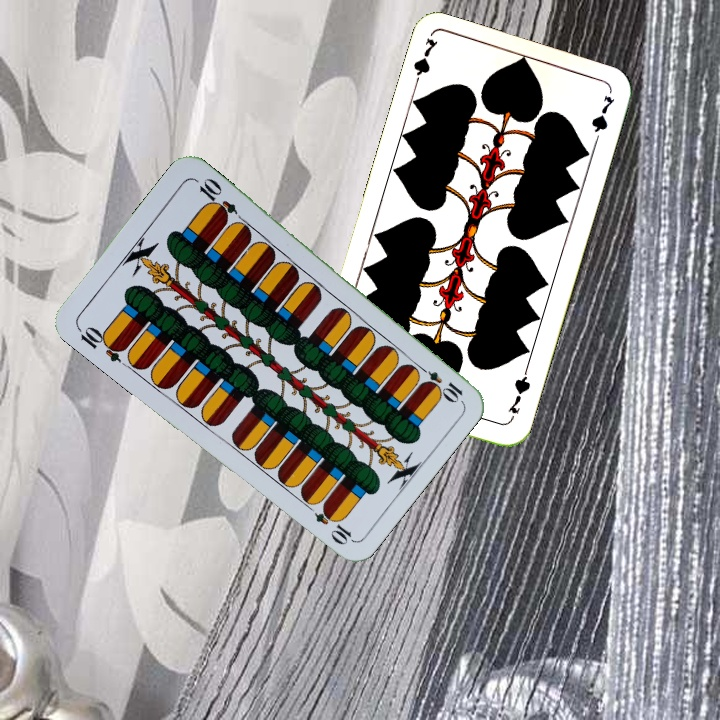E10: (412, 360, 466, 404), (73, 322, 128, 365)
G7: (409, 34, 441, 93), (504, 367, 533, 425)
